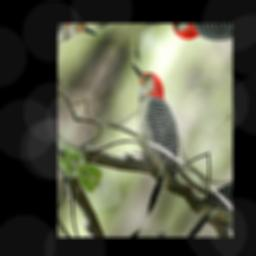Woodpecker: (79, 57, 214, 224)
